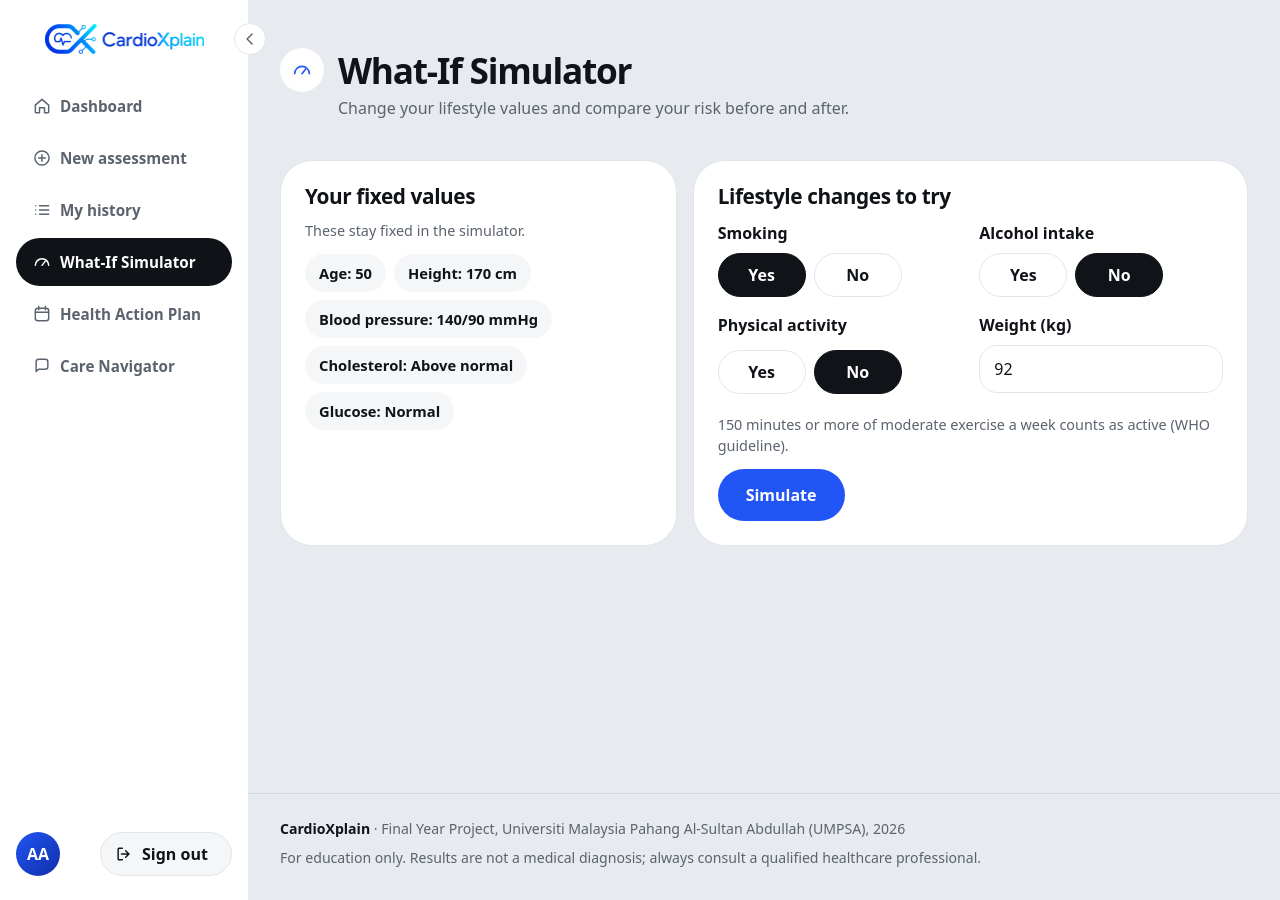
Test: simulator shows Yes/No for an old assessment without amounts
This screenshot has width=1280, height=900.
Expected: the radio button with aria-label "Smoking: Yes" is checked, [718,253,806,297]
Click the radio button with aria-label "Physical activity: Yes": (762, 372) [718,350,806,394]
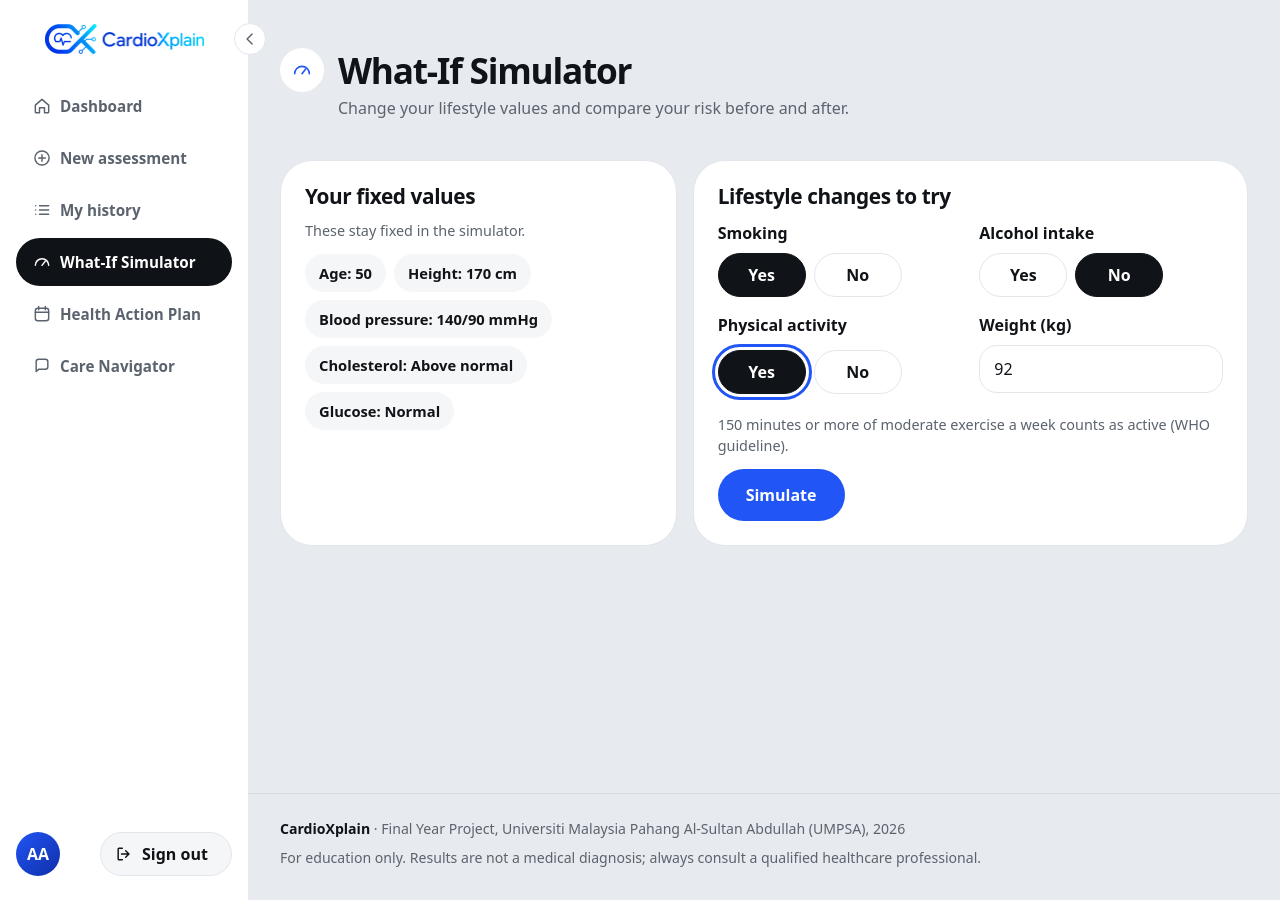
Click the button "Simulate": (781, 495) [718,469,845,521]
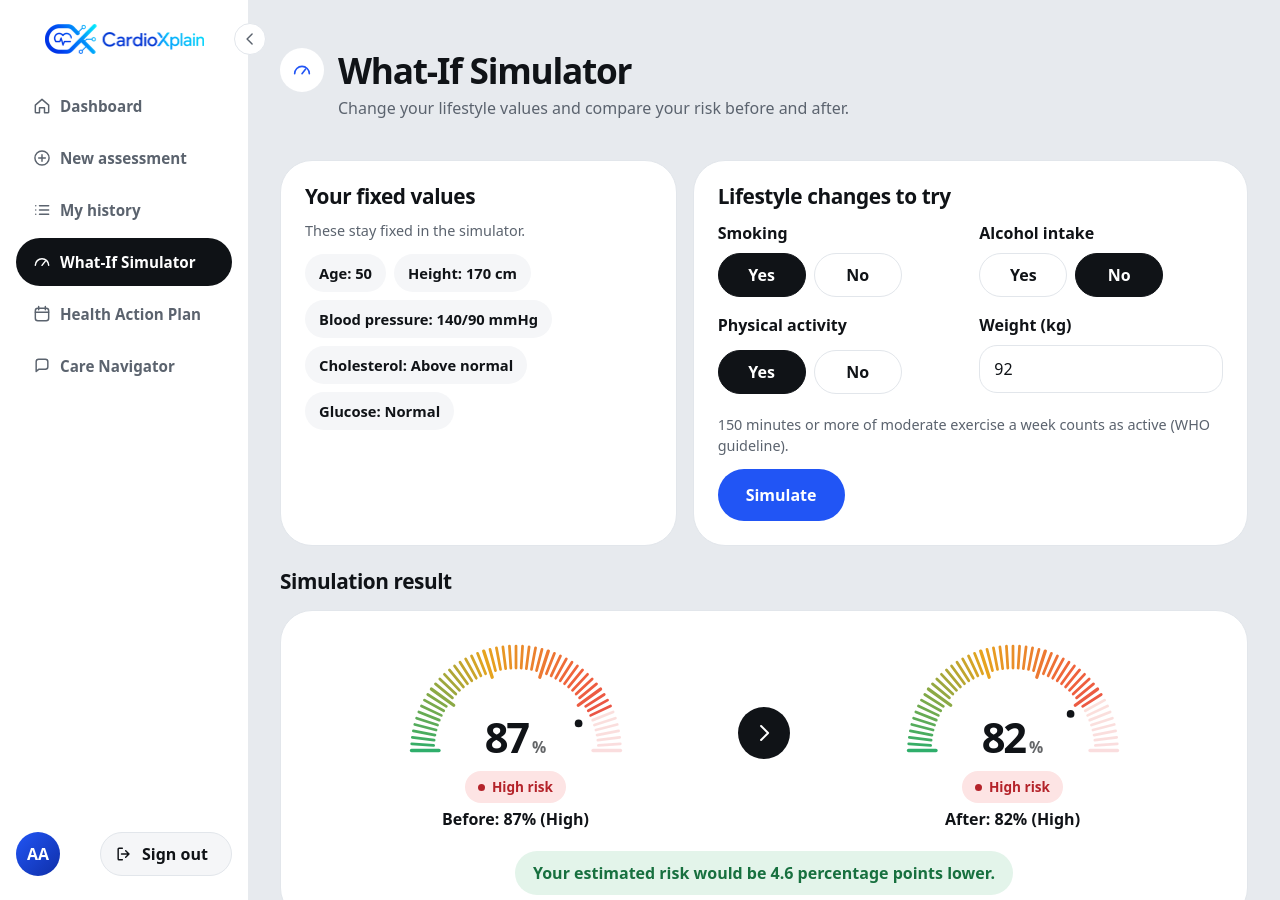
Expected: the text "Before: 87% (High)" is shown, [442,808,589,832]
